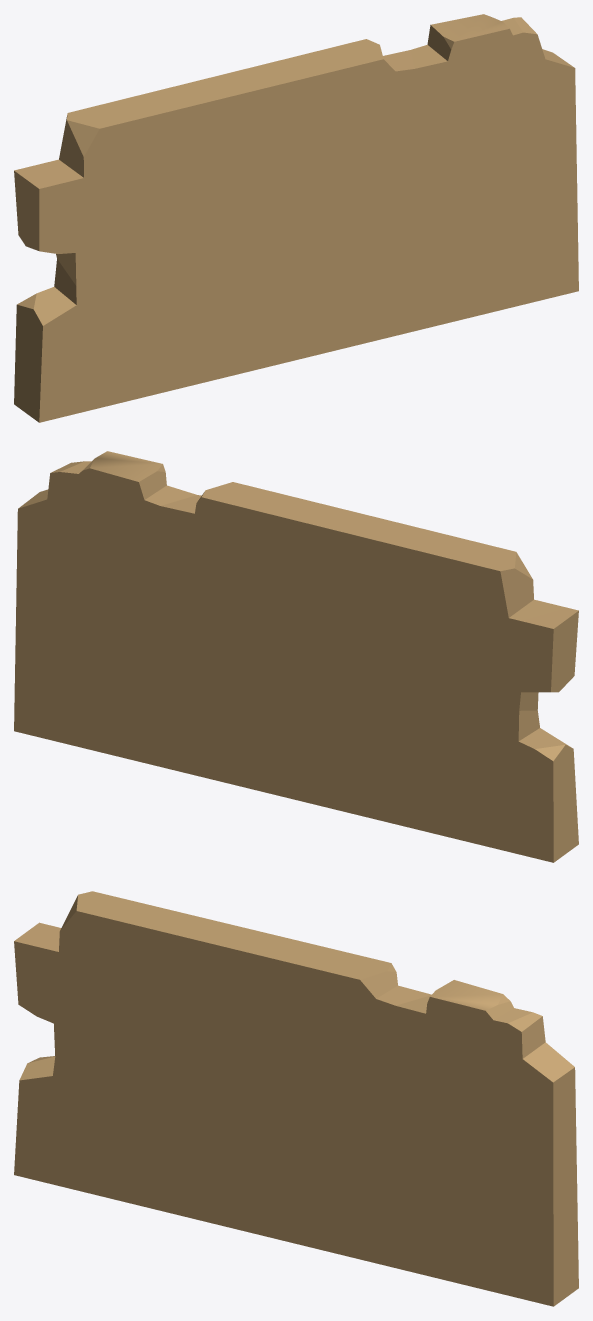
The model's file is Ruins_StoneWall_01.fbx.
The picture shows the model from 3 angles, top to bottom: view 1: azimuth 30°, elevation 25°; view 2: azimuth 150°, elevation 25°; view 3: azimuth 330°, elevation 25°; orthographic projection.
Visible parts, largest first — view 1: StoneFenceSeg_01; view 2: StoneFenceSeg_01; view 3: StoneFenceSeg_01.
Boxes of the visible parts, box(x1,y1,x2,y2) form: StoneFenceSeg_01: box(14, 14, 578, 422); StoneFenceSeg_01: box(14, 451, 578, 862); StoneFenceSeg_01: box(14, 891, 578, 1306).
Bounding box in the file's own units: 213 × 105 × 17.27.
